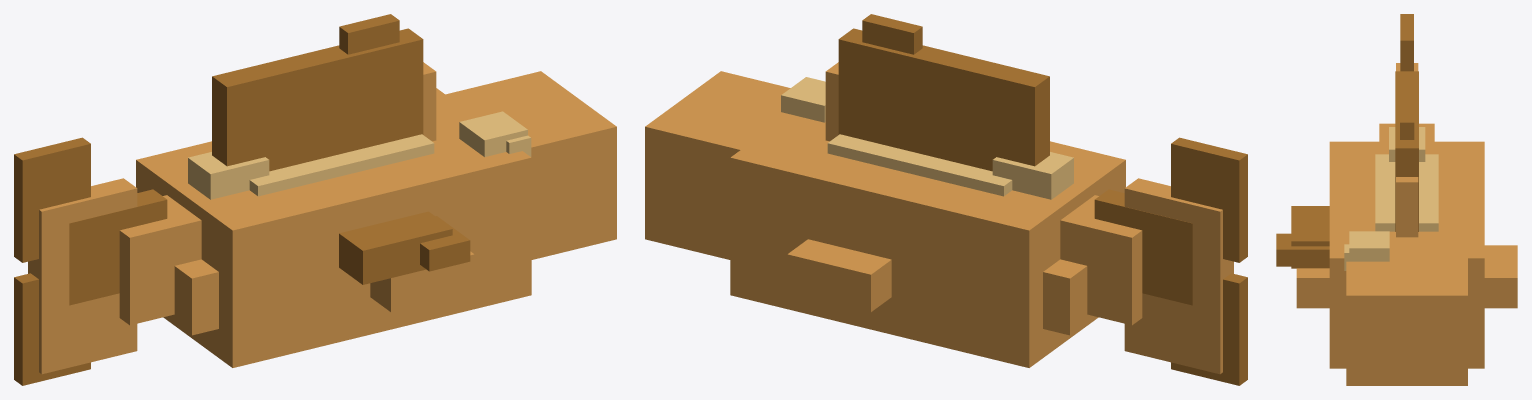
The model's file is fish_silk_amberjack.glb.
3 renders of one model, left to right at view 1: azimuth 30°, elevation 25°; view 2: azimuth 150°, elevation 25°; view 3: azimuth 270°, elevation 25°, orthographic. The views are drawn at different scales.
Visible parts, largest first — view 1: FishArt_body, FishArt_dorsal, FishArt_tail, FishArt_pectoral, FishArt_specialty, FishArt_eye; view 2: FishArt_body, FishArt_dorsal, FishArt_tail, FishArt_specialty, FishArt_eye; view 3: FishArt_body, FishArt_specialty, FishArt_pectoral, FishArt_dorsal, FishArt_eye, FishArt_tail.
Boxes of the visible parts, <box> form: FishArt_body: <box>28,62,616,374</box>; FishArt_dorsal: <box>212,14,423,171</box>; FishArt_tail: <box>14,137,167,385</box>; FishArt_pectoral: <box>339,211,470,284</box>; FishArt_specialty: <box>188,134,434,199</box>; FishArt_eye: <box>459,111,531,156</box>; FishArt_body: <box>645,62,1233,374</box>; FishArt_dorsal: <box>838,14,1049,171</box>; FishArt_tail: <box>1094,137,1247,385</box>; FishArt_specialty: <box>827,134,1073,199</box>; FishArt_eye: <box>781,77,825,122</box>; FishArt_body: <box>1296,63,1517,385</box>; FishArt_specialty: <box>1375,127,1438,231</box>; FishArt_pectoral: <box>1276,206,1329,268</box>; FishArt_dorsal: <box>1395,71,1418,231</box>; FishArt_eye: <box>1344,231,1389,270</box>; FishArt_tail: <box>1400,14,1413,71</box>.
Size of the model in its own units: 0.3091 by 0.1442 by 0.1439.
